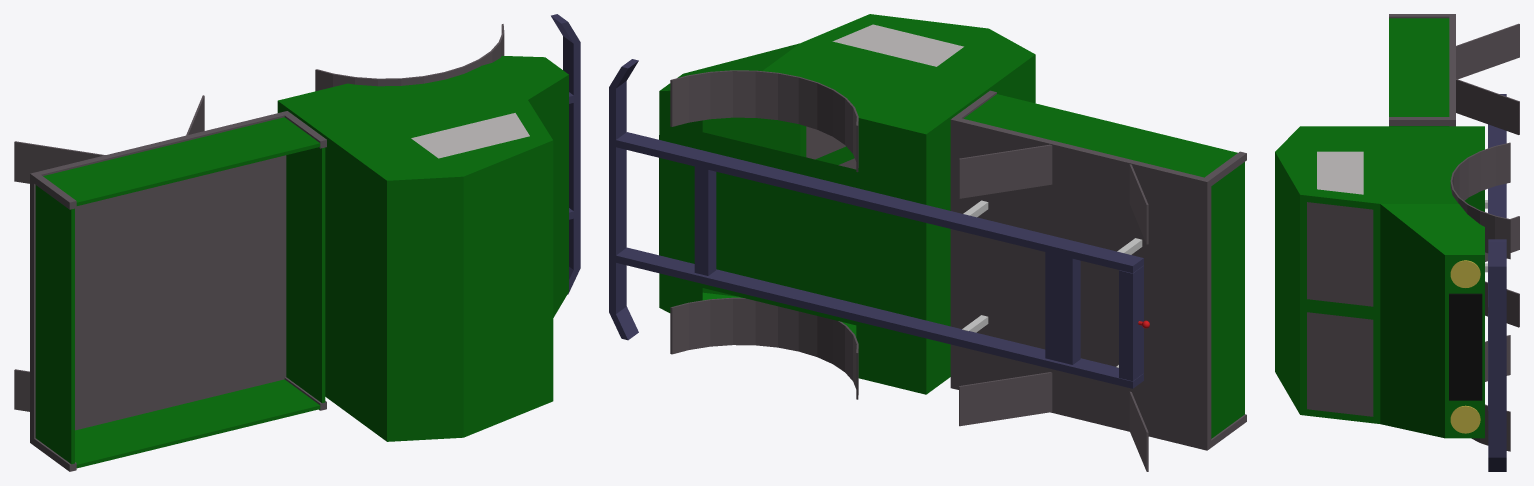
File: U401_Frame.obj
3 renders of one model, left to right at view 1: azimuth 30°, elevation 25°; view 2: azimuth 150°, elevation 25°; view 3: azimuth 270°, elevation 25°, orthographic. The views are drawn at different scales.
Visible parts, largest first — view 1: boden1_boden1.001, Pritschenboden_Cube.006, boden1.001_boden1.004, PritscheFr_Cube.011, PritscheLinks_Cube.013, PritscheRear_Cube.012, PritscheRects_Cube.014, Seitenfenster_boden1.003, KFF_L_Cylinder.007, BumperLinks_Plane, KFH_HL_Cube.021, BumperRechts_Plane.001 (+1 smaller); view 2: Pritschenboden_Cube.006, boden1_boden1.001, boden1.001_boden1.004, TraegerLinks_Cube, KFF_L_Cylinder.007, TraegerRechts_Cube.001, KFF_R_Cylinder.009, PritscheFr_Cube.011, PritscheRear_Cube.012, KFH_VL_Cube.019, KFH_VR_Cube.020, QuertraegerHeck_Cube.003 (+8 smaller); view 3: boden1_boden1.001, boden1.001_boden1.004, Fenster.001_boden1.005, Fenster_boden1.002, PritscheRear_Cube.012, Grill_Cube.005, KFF_L_Cylinder.007, BumperLinks_Plane, KFH_VL_Cube.019, KFH_HL_Cube.021, BumperRechts_Plane.001, Seitenfenster_boden1.003 (+9 smaller).
Part boxes in pixels (bbox=[...]): boden1_boden1.001: bbox=[277, 56, 568, 311]; Pritschenboden_Cube.006: bbox=[30, 111, 290, 445]; boden1.001_boden1.004: bbox=[325, 183, 568, 441]; PritscheFr_Cube.011: bbox=[35, 185, 74, 464]; PritscheLinks_Cube.013: bbox=[286, 147, 325, 402]; PritscheRear_Cube.012: bbox=[43, 117, 320, 205]; PritscheRects_Cube.014: bbox=[75, 379, 320, 468]; Seitenfenster_boden1.003: bbox=[411, 113, 529, 158]; KFF_L_Cylinder.007: bbox=[315, 24, 504, 91]; BumperLinks_Plane: bbox=[551, 14, 580, 156]; KFH_HL_Cube.021: bbox=[14, 141, 105, 183]; BumperRechts_Plane.001: bbox=[567, 153, 580, 294]; Pritschenboden_Cube.006: bbox=[950, 116, 1211, 450]; boden1_boden1.001: bbox=[659, 14, 1035, 264]; boden1.001_boden1.004: bbox=[659, 152, 950, 394]; TraegerLinks_Cube: bbox=[616, 132, 1143, 273]; KFF_L_Cylinder.007: bbox=[670, 70, 858, 172]; TraegerRechts_Cube.001: bbox=[616, 247, 1143, 388]; KFF_R_Cylinder.009: bbox=[670, 297, 858, 399]; PritscheFr_Cube.011: bbox=[1211, 162, 1244, 438]; PritscheRear_Cube.012: bbox=[963, 94, 1237, 177]; KFH_VL_Cube.019: bbox=[959, 144, 1052, 198]; KFH_VR_Cube.020: bbox=[959, 372, 1052, 426]; QuertraegerHeck_Cube.003: bbox=[1045, 252, 1080, 364]; boden1_boden1.001: bbox=[1275, 126, 1484, 346]; boden1.001_boden1.004: bbox=[1275, 262, 1484, 438]; Fenster.001_boden1.005: bbox=[1307, 202, 1373, 306]; Fenster_boden1.002: bbox=[1307, 312, 1373, 416]; PritscheRear_Cube.012: bbox=[1389, 18, 1449, 116]; Grill_Cube.005: bbox=[1449, 293, 1482, 400]; KFF_L_Cylinder.007: bbox=[1450, 142, 1510, 259]; BumperLinks_Plane: bbox=[1488, 239, 1506, 361]; KFH_VL_Cube.019: bbox=[1456, 79, 1519, 134]; KFH_HL_Cube.021: bbox=[1456, 23, 1519, 79]; BumperRechts_Plane.001: bbox=[1488, 362, 1506, 471]; Seitenfenster_boden1.003: bbox=[1317, 151, 1363, 194].
Size of the model in its own units: 3.32 by 1.53 by 1.47.
